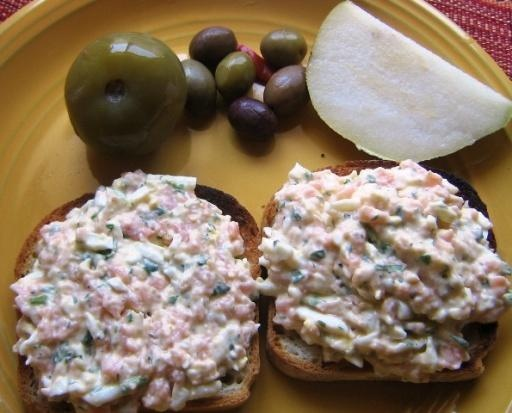background: (6, 0, 409, 267)
